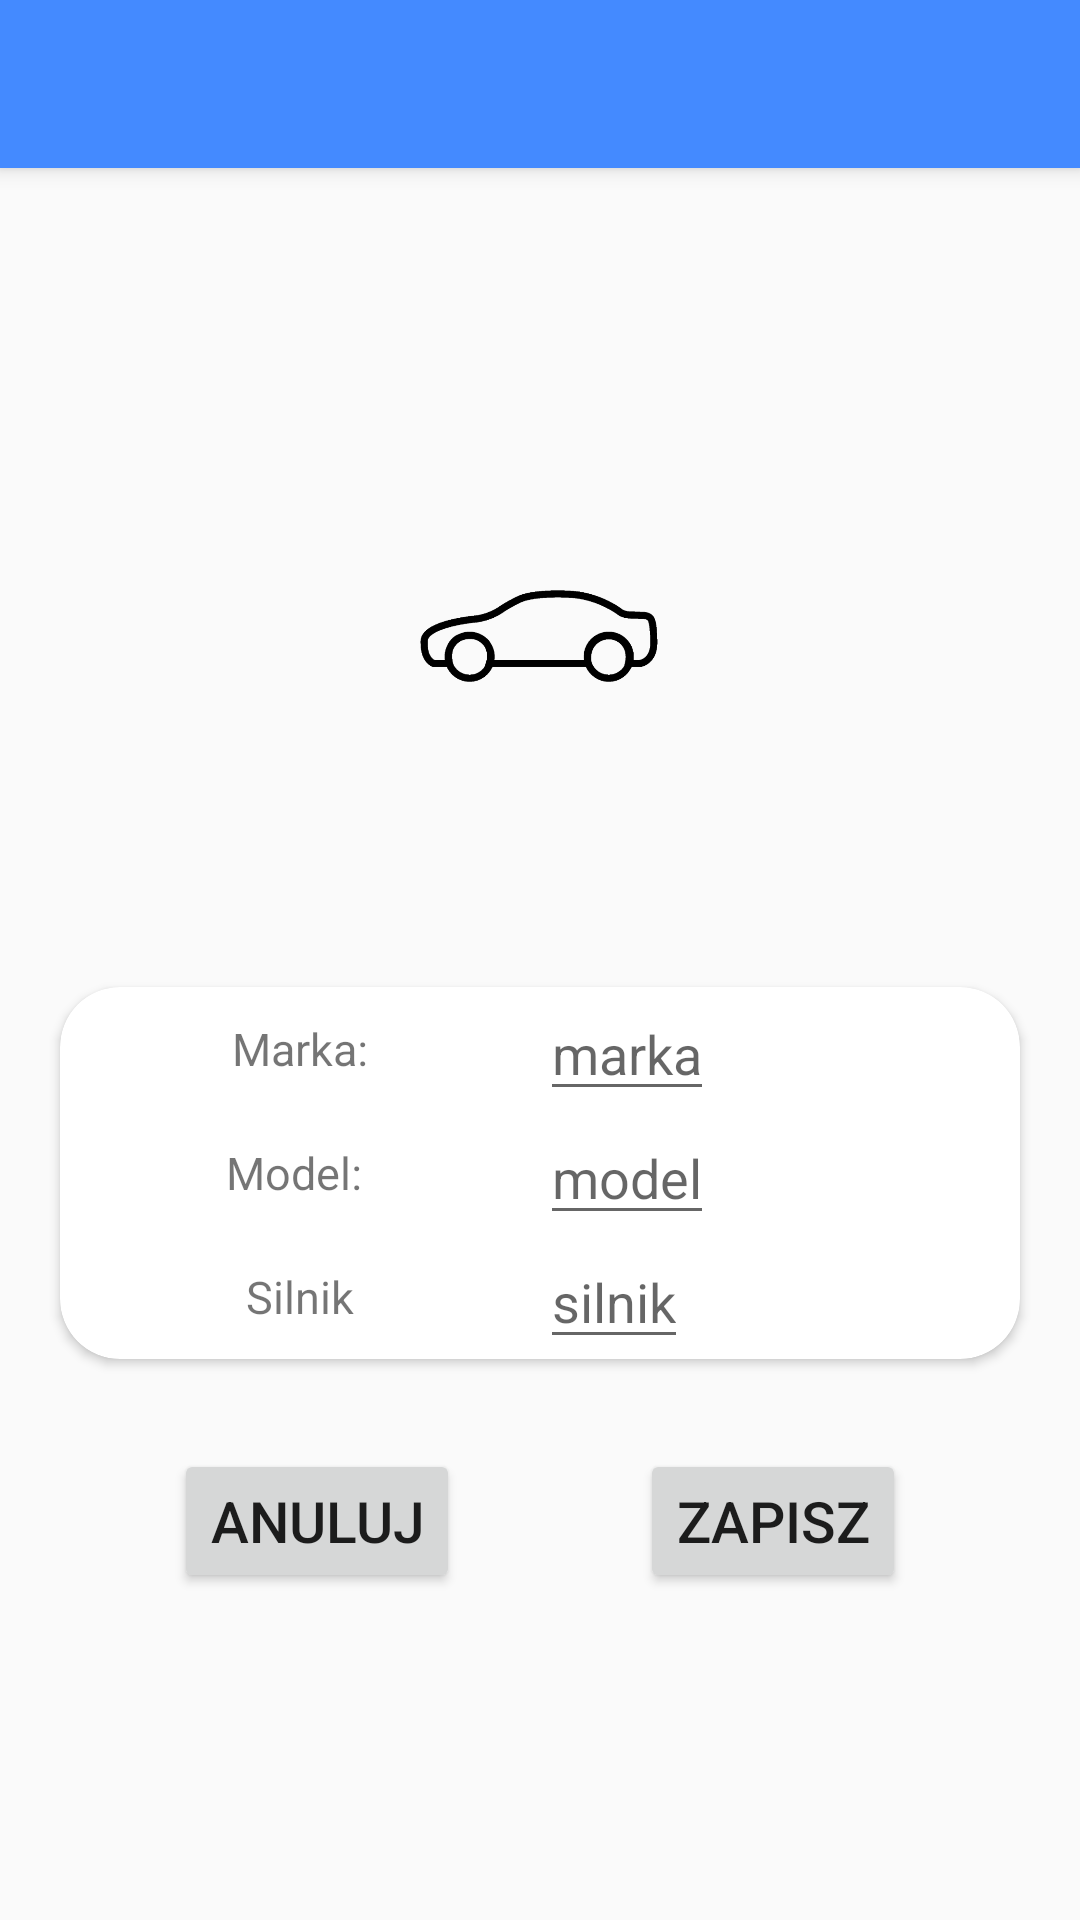

Locate icon controls on the screen. Image size 1080px x 1920px, boxes as (x1, y1, x2, y2).
car: (420, 590, 658, 682)
